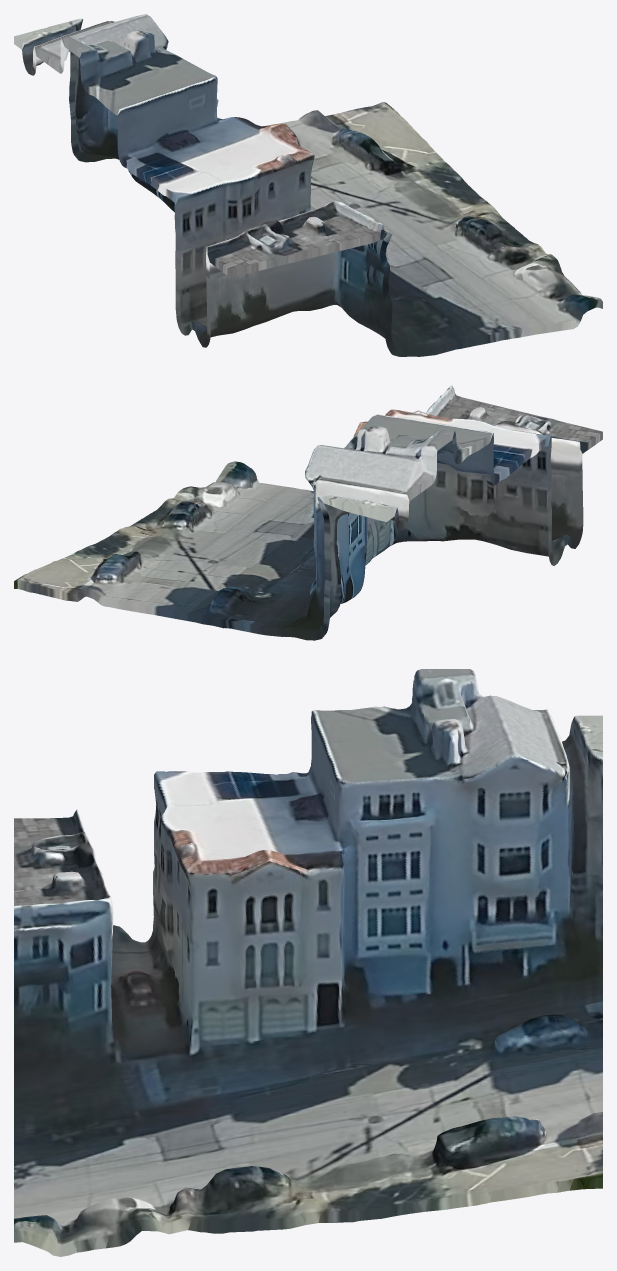
Rendered from z20-167726-405191-h0-yup-uvflip-v3-world.glb.
3 views of the same model, one above another, from view 1: azimuth 30°, elevation 25°; view 2: azimuth 150°, elevation 25°; view 3: azimuth 270°, elevation 25° (orthographic). The views are drawn at different scales.
Size of the model in its own units: 30.16 by 19.52 by 30.32.
1 material, 1 textured.
